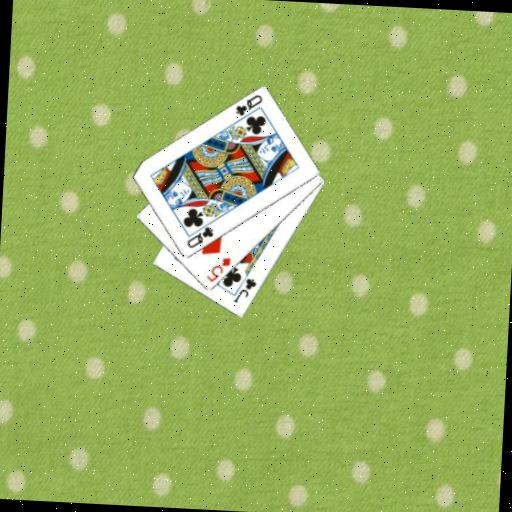5D: (203, 254, 233, 285)
JC: (231, 275, 259, 306)
QC: (183, 222, 215, 251), (232, 90, 264, 119)
